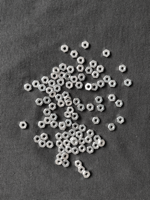nut: (82, 41, 90, 49), (61, 45, 69, 53), (71, 50, 79, 58), (97, 65, 105, 73), (119, 65, 127, 73), (67, 66, 75, 74), (85, 83, 93, 91), (57, 79, 65, 87), (42, 76, 50, 84), (39, 84, 47, 92), (87, 104, 95, 112), (116, 100, 124, 108), (38, 121, 46, 129), (72, 123, 80, 131), (69, 129, 77, 137), (46, 141, 54, 149), (85, 136, 93, 144), (58, 147, 66, 155), (62, 160, 70, 168), (55, 158, 63, 166), (75, 160, 83, 168), (78, 166, 86, 174), (83, 171, 91, 179), (19, 122, 28, 129), (103, 50, 111, 57), (78, 57, 85, 65), (90, 61, 98, 68), (77, 65, 85, 72), (92, 71, 100, 78), (60, 63, 67, 71), (53, 67, 60, 75), (78, 74, 86, 81), (64, 73, 72, 80), (104, 76, 112, 83), (109, 81, 117, 88), (125, 79, 132, 87), (98, 80, 105, 88), (49, 80, 56, 88), (25, 84, 32, 92), (46, 87, 54, 94), (54, 85, 61, 93), (49, 91, 57, 98), (55, 94, 63, 101), (62, 92, 70, 99), (43, 97, 51, 104), (36, 99, 44, 106), (64, 96, 72, 103), (49, 103, 56, 111), (74, 98, 81, 106), (78, 104, 85, 112), (109, 95, 117, 102), (67, 107, 75, 114), (65, 111, 72, 119), (50, 114, 58, 121), (108, 124, 116, 131), (117, 117, 125, 124), (44, 117, 52, 124), (51, 121, 58, 129), (65, 120, 73, 127), (59, 122, 67, 129), (79, 125, 87, 132), (87, 130, 95, 137), (76, 131, 83, 139), (63, 132, 70, 140), (56, 133, 63, 141), (41, 133, 48, 141), (34, 136, 42, 143), (98, 140, 106, 147), (87, 146, 94, 154), (72, 138, 79, 146), (79, 145, 86, 153), (56, 141, 64, 148), (72, 147, 79, 155), (86, 67, 93, 74), (71, 76, 78, 83), (51, 73, 58, 80), (92, 84, 99, 91), (76, 82, 83, 89), (66, 82, 73, 89), (33, 81, 40, 88), (58, 100, 65, 107), (44, 109, 51, 116), (96, 97, 103, 104), (98, 105, 105, 112), (72, 113, 79, 120), (93, 117, 100, 124), (60, 124, 67, 131), (39, 141, 46, 148), (79, 138, 86, 145), (93, 143, 100, 150), (70, 137, 77, 144), (64, 140, 71, 147), (66, 147, 73, 154), (62, 153, 69, 160), (94, 136, 102, 142), (59, 72, 65, 79), (66, 100, 73, 106), (57, 154, 63, 160)
